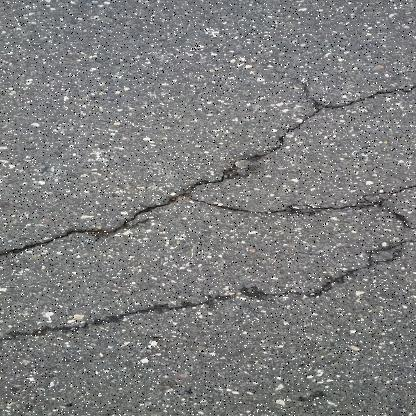Cracks: (0, 68, 416, 346)
